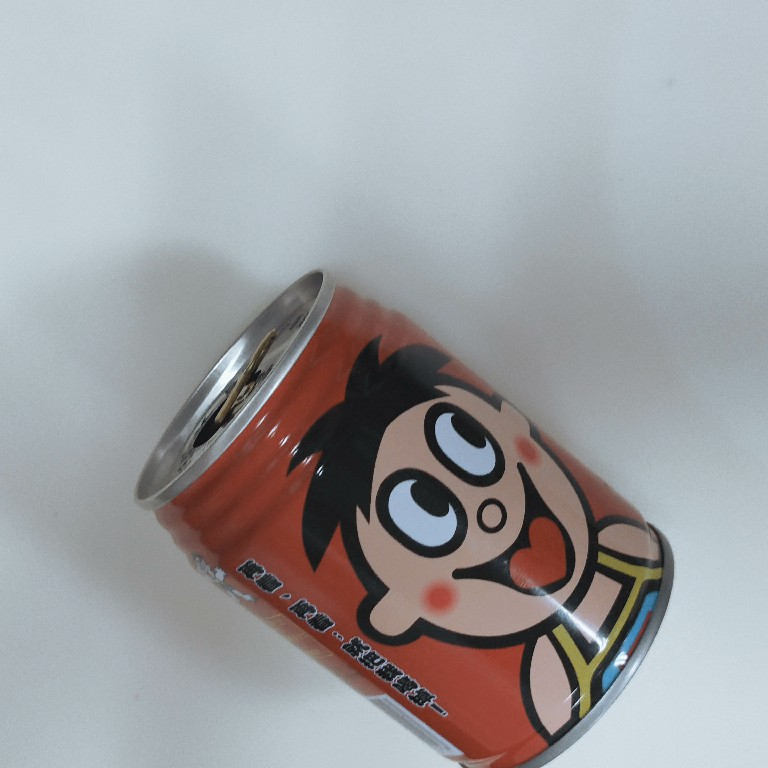can: (132, 263, 679, 768)
